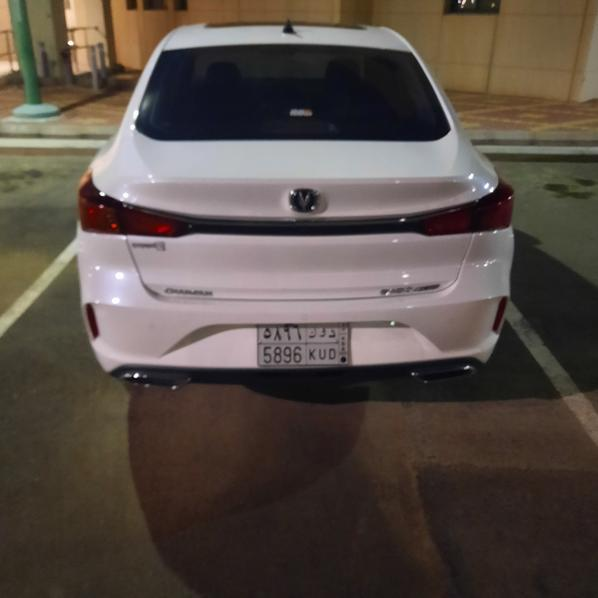numberplate: (258, 325, 349, 365)
